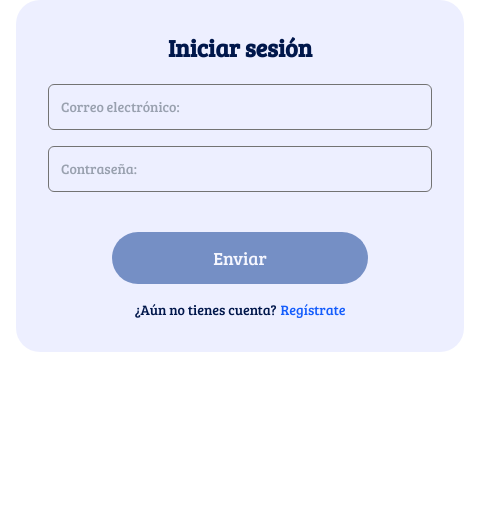
Test: LoginForm › debería cerrar el modal al hacer click en 'Aceptar
The width and height of the screenshot is (481, 509).
Step 1. Type "test@example.com" into the field with placeholder "Correo electrónico:" → (240,107), box [48,84,432,130]
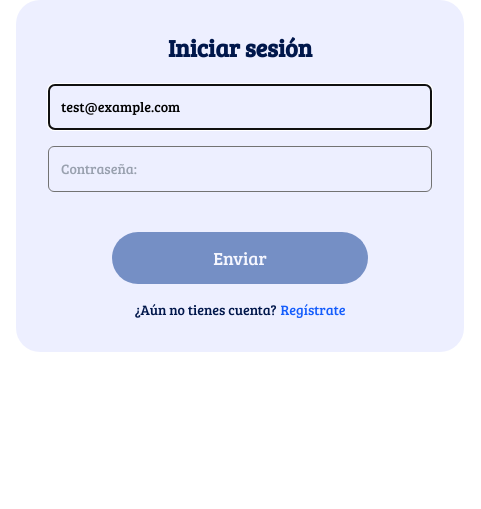
Step 2. Type "1234" into the password field with placeholder "Contraseña:" → (240,169), box [48,146,432,192]
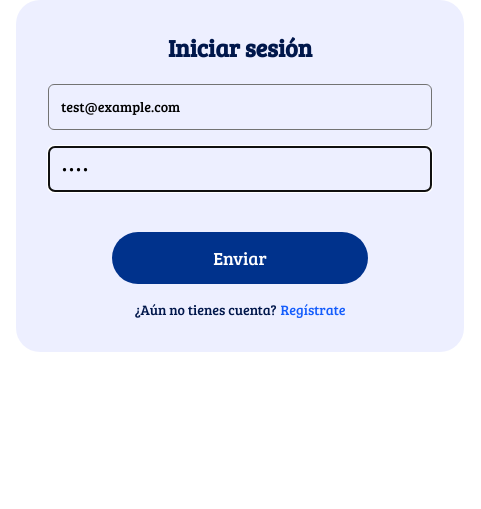
Step 3. Click the button "Enviar" → (240,258), box [112,232,368,284]
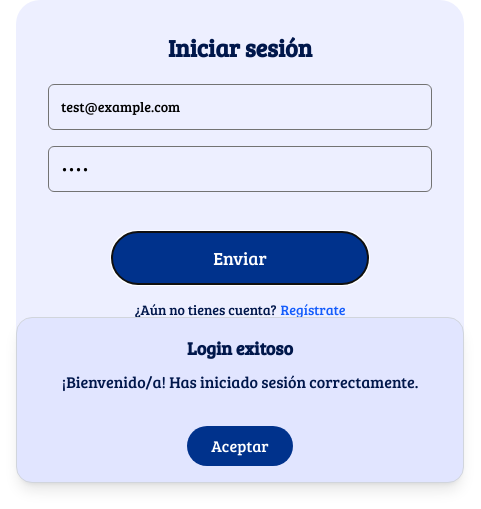
Step 4. Click the button "Aceptar" → (240,446), box [187,426,293,466]
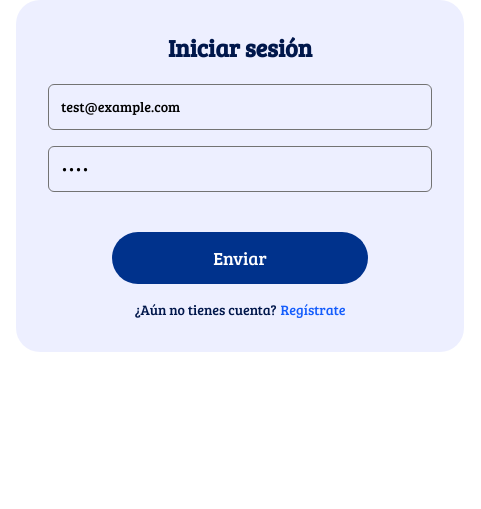
Expected: the text "¡Bienvenido/a! Has iniciado sesión correctamente." is gone
